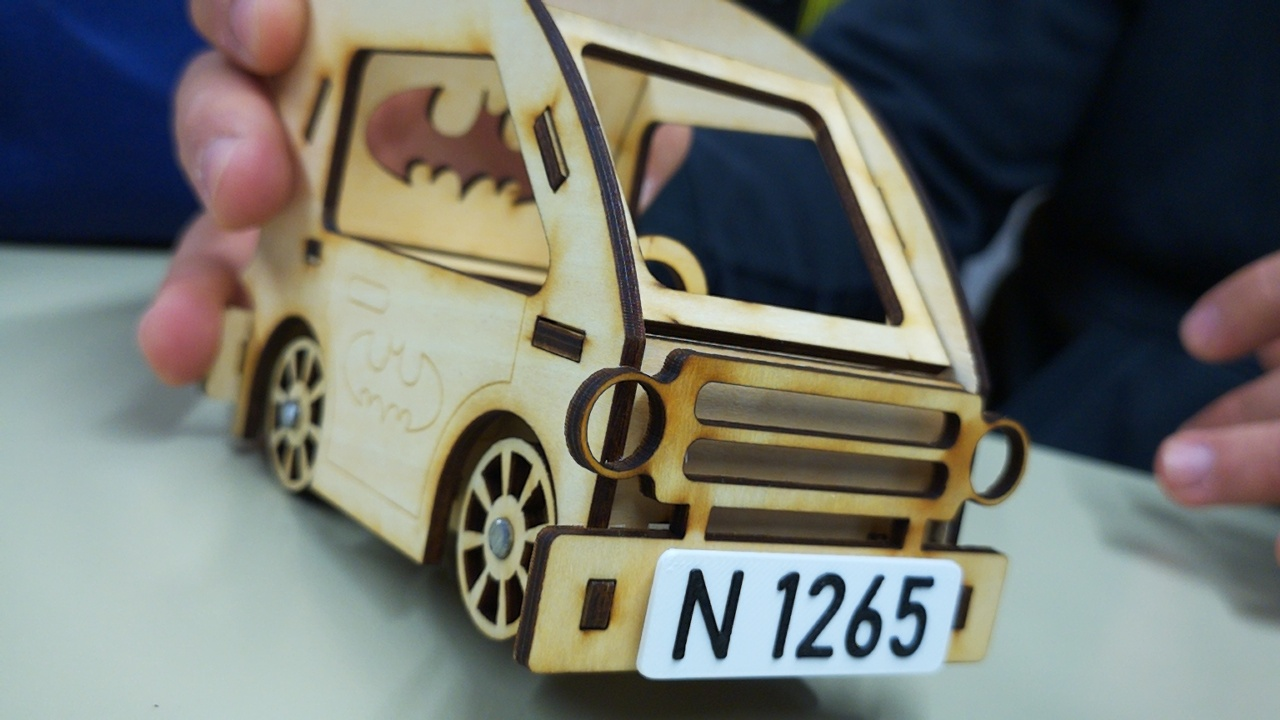license_plate: (634, 545, 965, 682)
